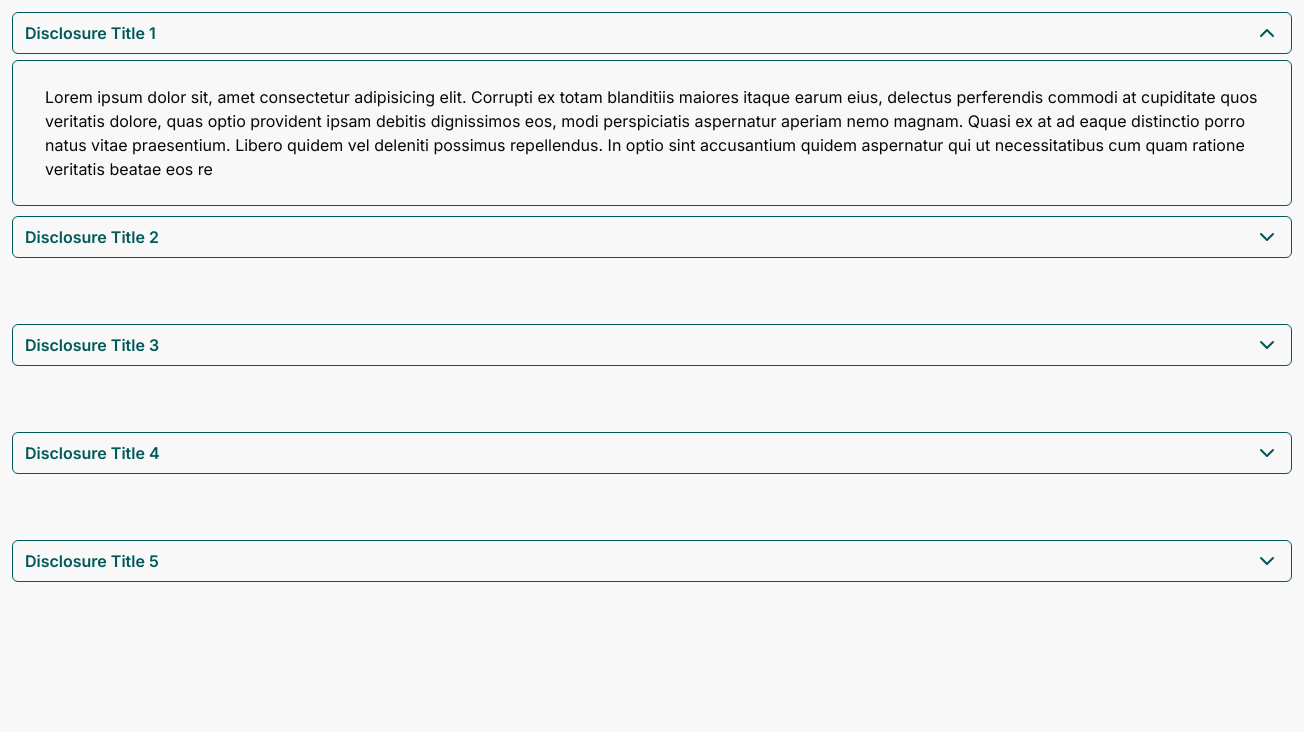
Accordion › Interaction › non-exclusive keeps others open
The image size is (1304, 732).
Click the 2nd button at (652, 237), box [12,216,1292,258]
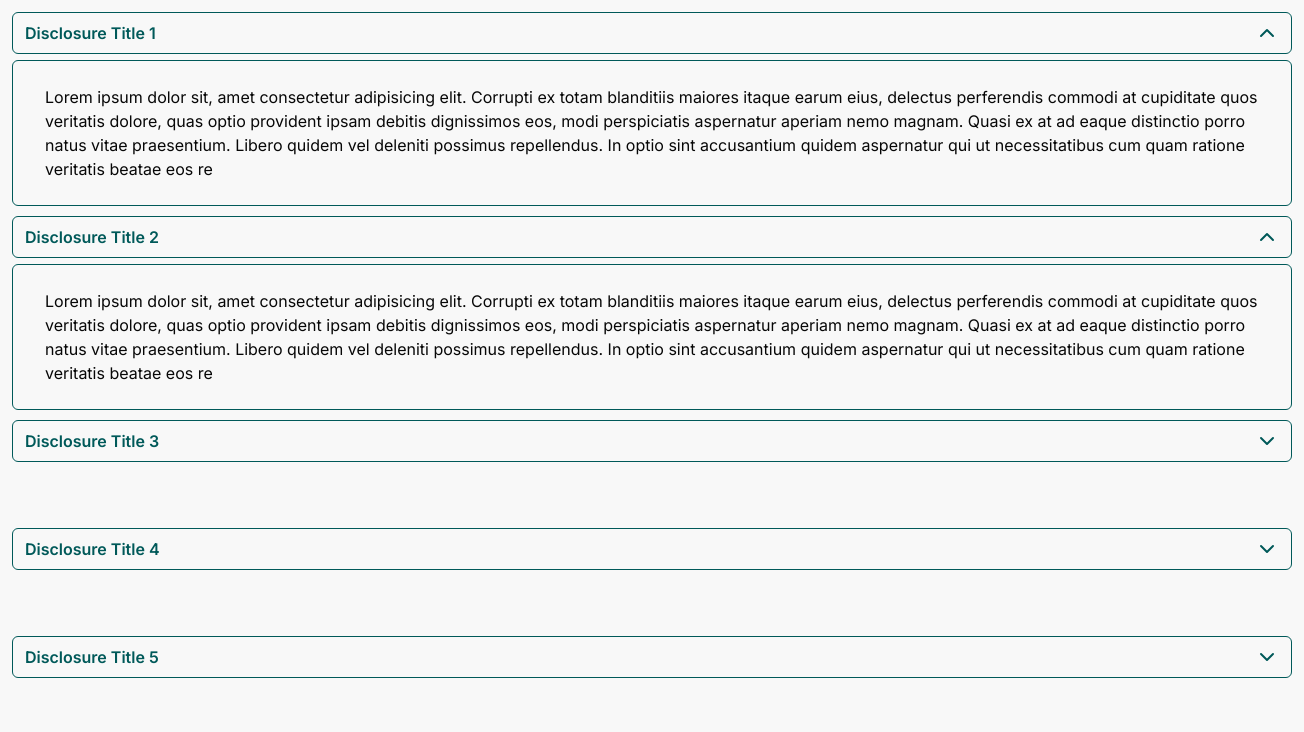
Click the 3rd button at (652, 441), box [12,420,1292,462]
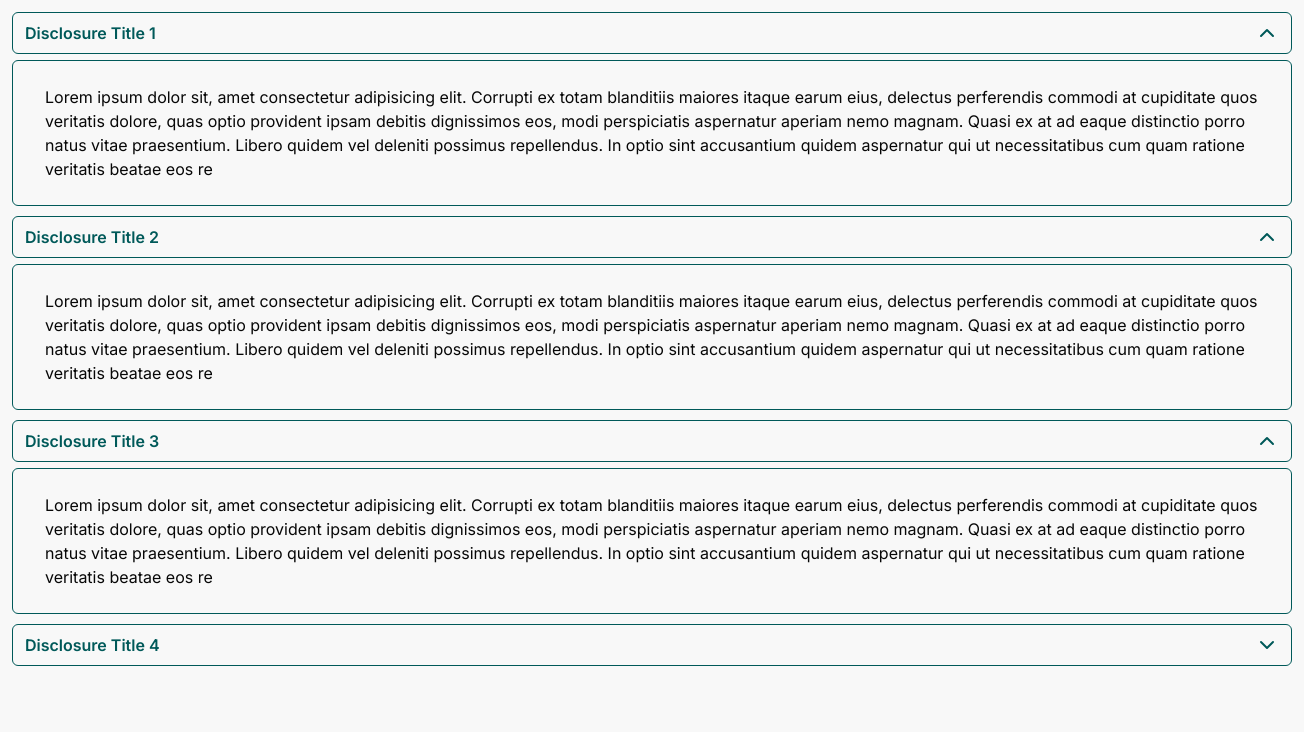
Check: the 2nd button is expanded, box [12,216,1292,258]
Check: the 3rd button is expanded, box [12,420,1292,462]
